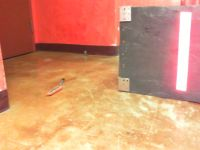switch: (175, 12, 192, 92)
